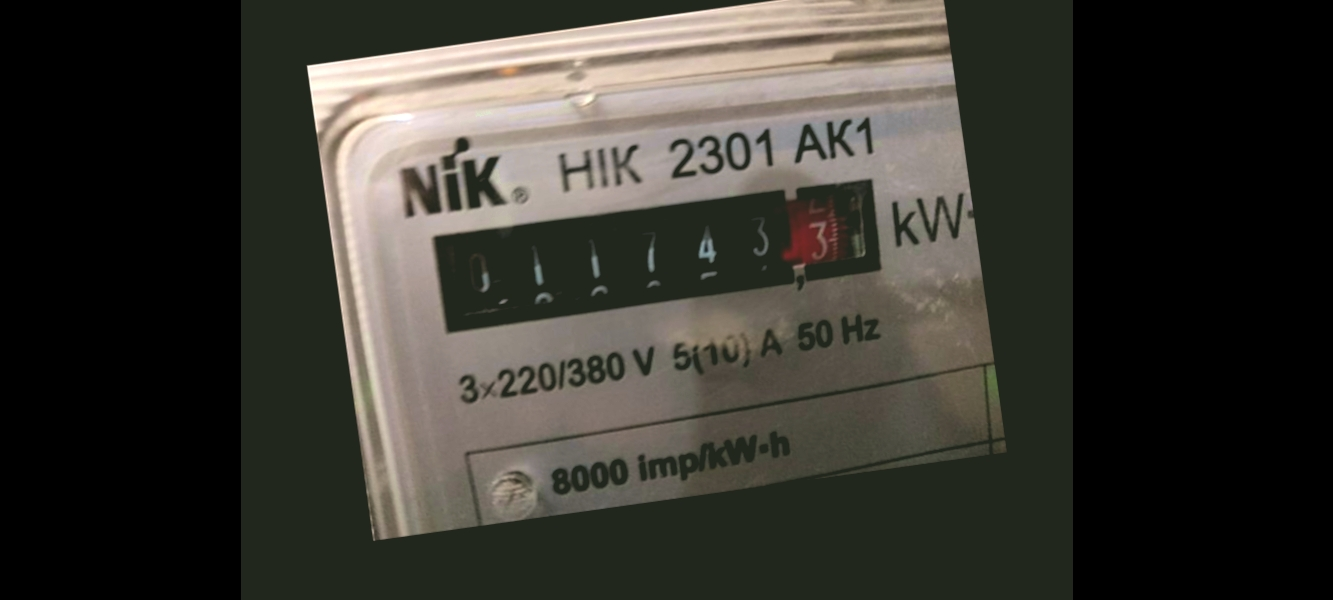0: (461, 246, 496, 297)
1: (580, 232, 607, 282), (525, 240, 549, 290)
3: (742, 210, 777, 260), (804, 216, 834, 263)
4: (689, 216, 723, 268)
7: (636, 225, 666, 276)
screen: (415, 164, 893, 345)
